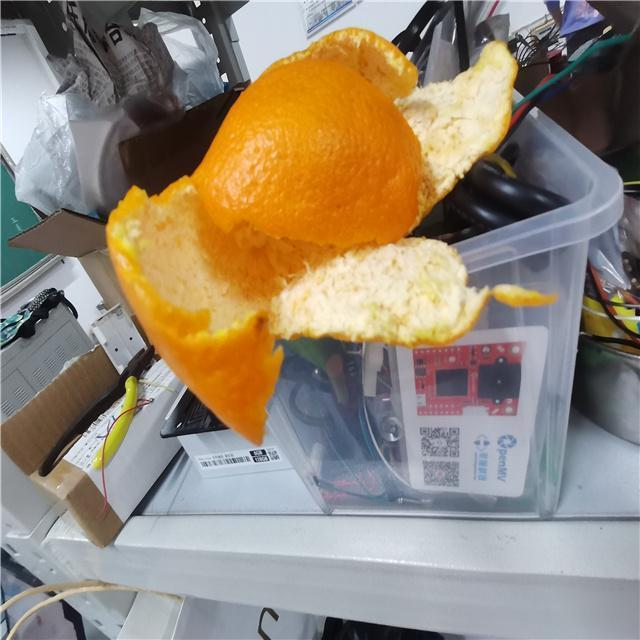orange peel: (100, 24, 522, 445)
